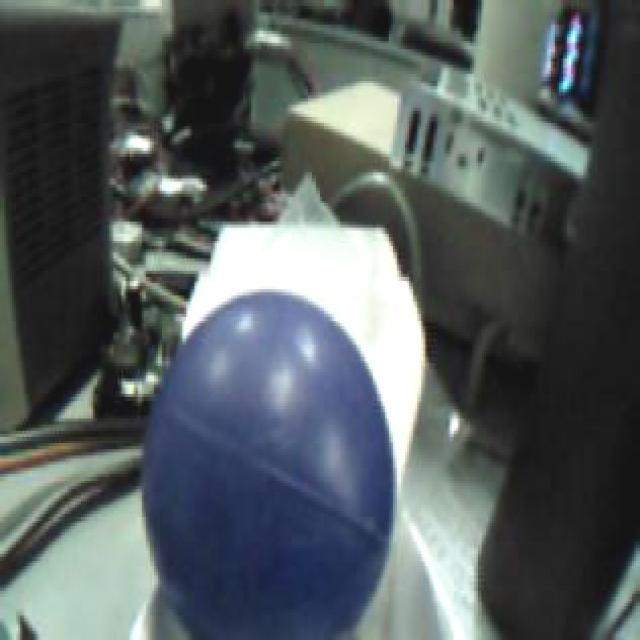BallPurple: (142, 292, 393, 640)
